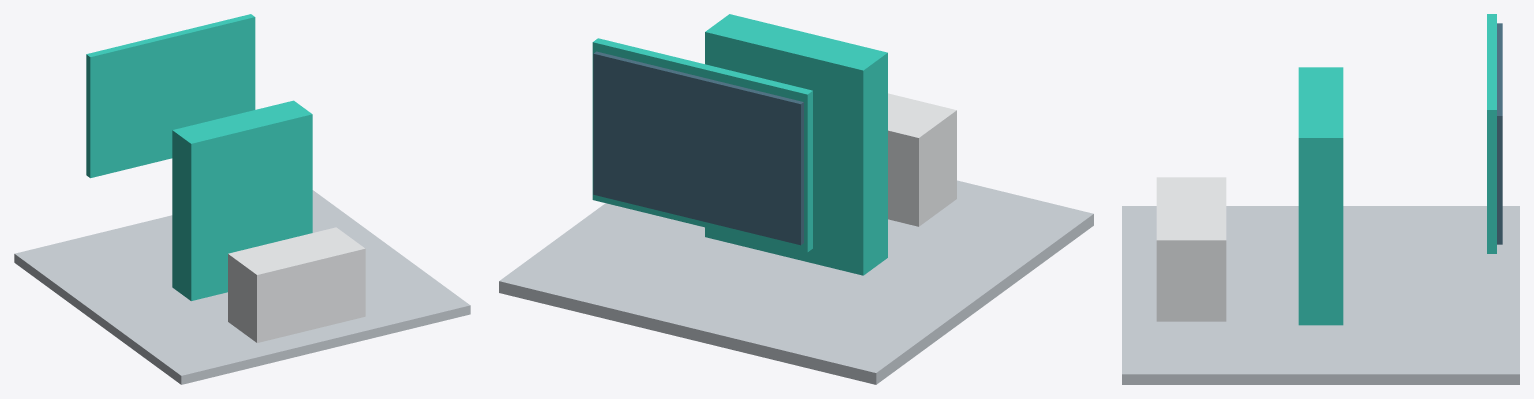
3 views of the same model, side by side, from view 1: azimuth 30°, elevation 25°; view 2: azimuth 150°, elevation 25°; view 3: azimuth 270°, elevation 25° (orthographic). The views are drawn at different scales.
Parts seen in each view (by area): view 1: Exhibition Booth Concept; view 2: Exhibition Booth Concept; view 3: Exhibition Booth Concept.
Part boxes in pixels (x1=…): Exhibition Booth Concept: x1=14, y1=14, x2=470, y2=384; Exhibition Booth Concept: x1=499, y1=14, x2=1093, y2=384; Exhibition Booth Concept: x1=1122, y1=14, x2=1519, y2=384.
Size of the model in its own units: 4 by 2.65 by 4.
